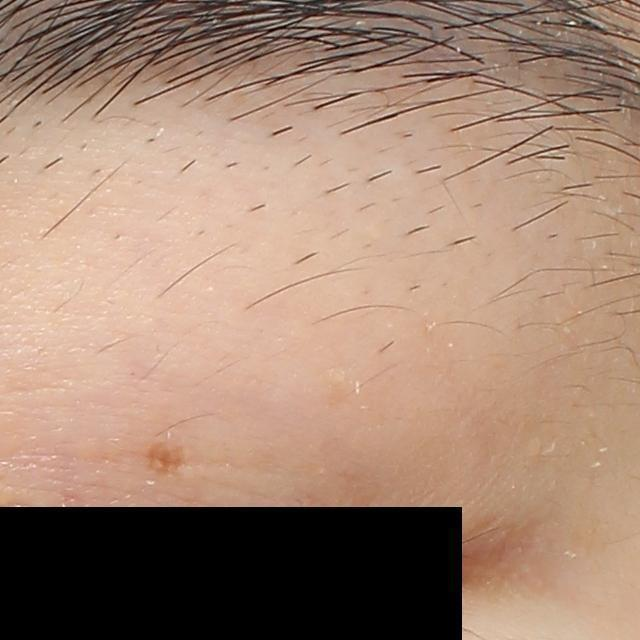melasma: (147, 439, 191, 478)
